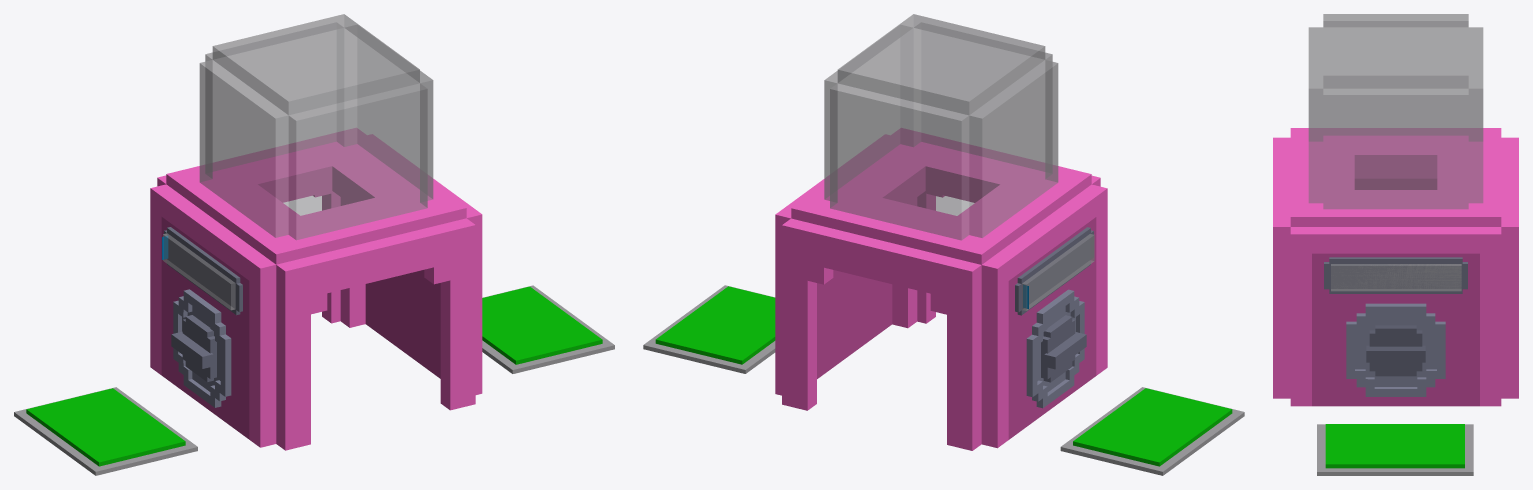
The model's file is BubbleGun.fbx.
The picture shows the model from 3 angles, left to right: view 1: azimuth 30°, elevation 25°; view 2: azimuth 150°, elevation 25°; view 3: azimuth 270°, elevation 25°; orthographic projection. The views are drawn at different scales.
Parts seen in each view (by area): view 1: w; view 2: w; view 3: w.
Part boxes in pixels (<box>): w: <box>14,14,614,475</box>; w: <box>643,14,1244,475</box>; w: <box>1273,14,1518,475</box>.
Bounding box in the file's own units: 3300 × 1969 × 1411.
